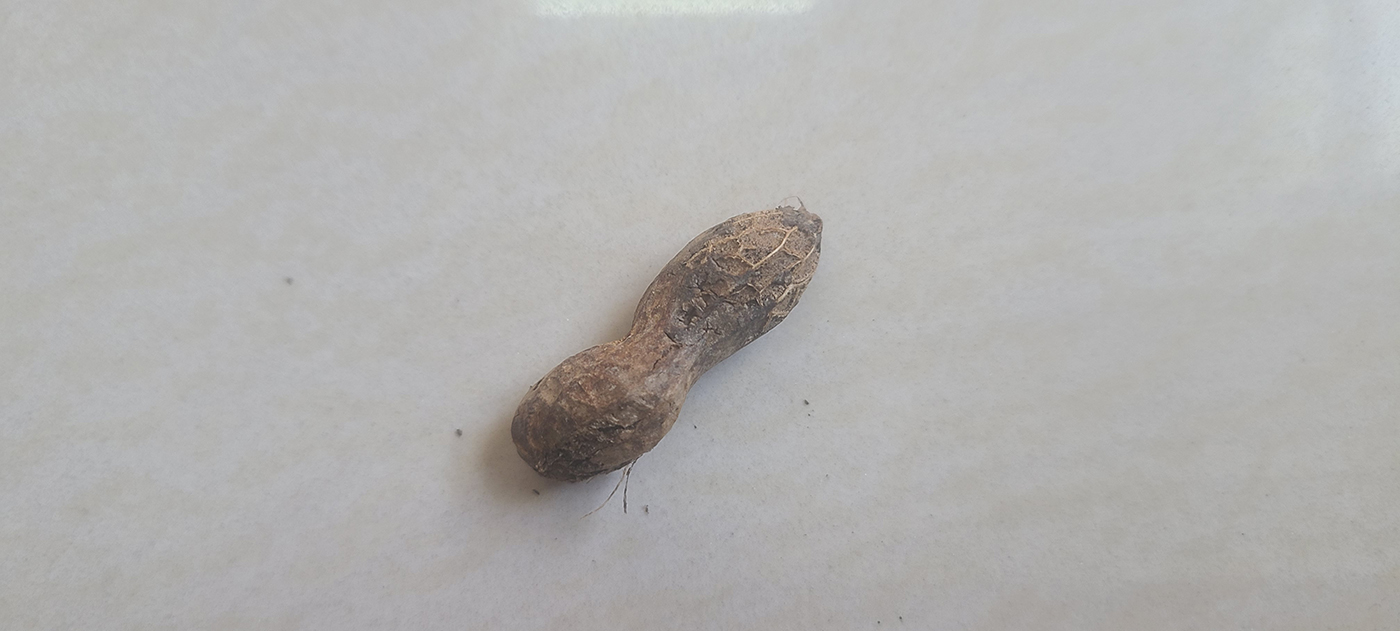l: (509, 202, 822, 485)
